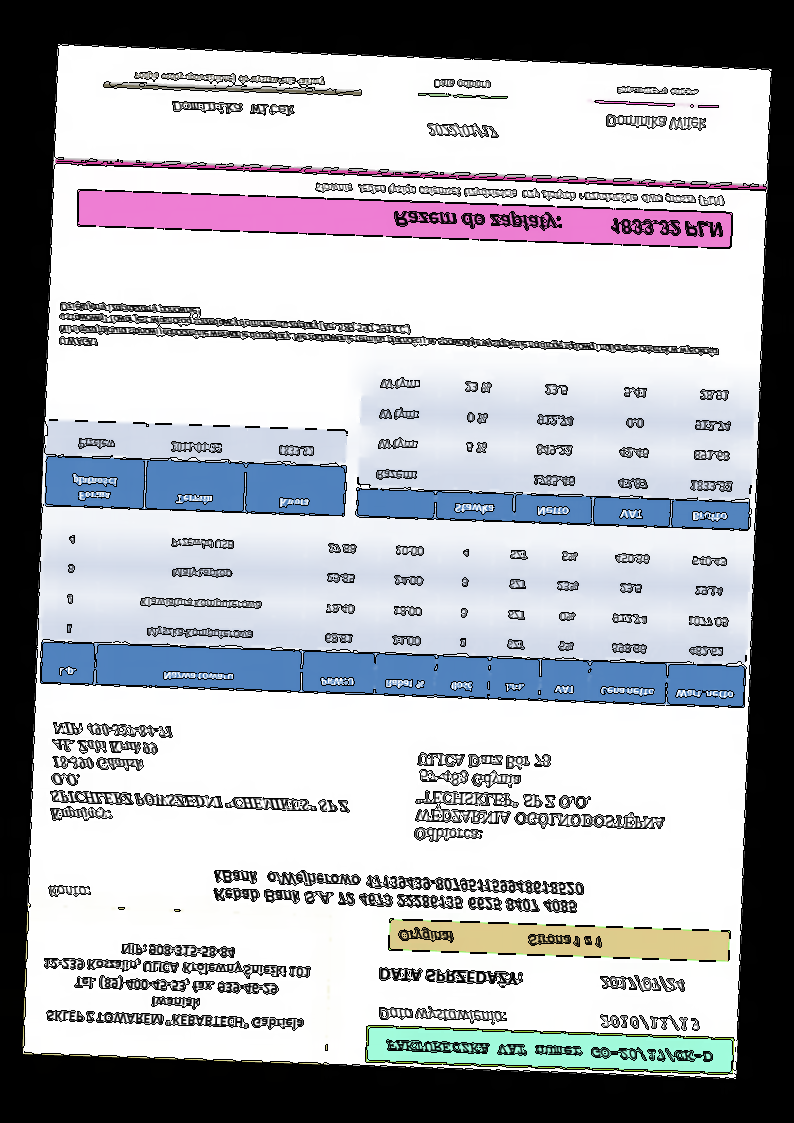Table: (37, 518, 752, 712), (353, 364, 756, 532), (43, 418, 347, 518)
TextBox: (55, 298, 720, 372), (47, 716, 355, 833), (411, 744, 671, 855), (39, 935, 316, 1037), (209, 863, 587, 919), (313, 180, 729, 211), (389, 206, 727, 242), (382, 1038, 719, 1067), (394, 924, 605, 952), (131, 68, 327, 89), (376, 965, 525, 991), (376, 1003, 508, 1030), (168, 97, 299, 119), (603, 112, 711, 135), (599, 1013, 701, 1035), (597, 972, 685, 996), (425, 119, 504, 144), (615, 81, 700, 101), (44, 879, 96, 904), (429, 75, 492, 92)
